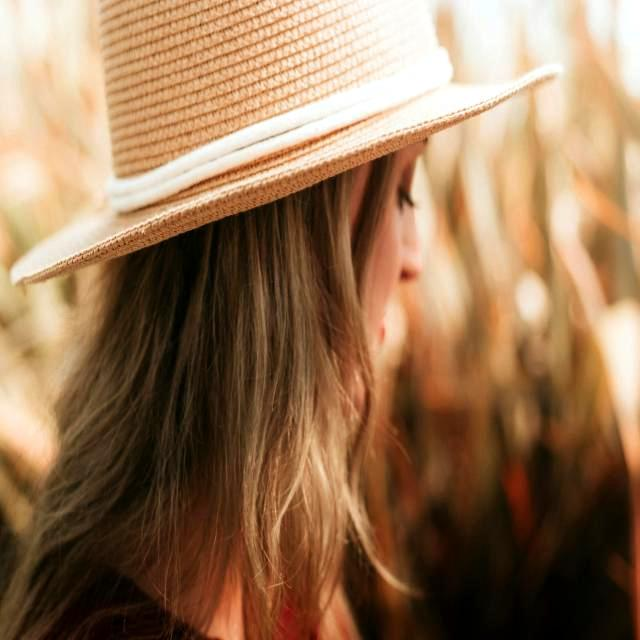no_hard_hat: (11, 0, 562, 285)
person: (61, 0, 464, 638)
